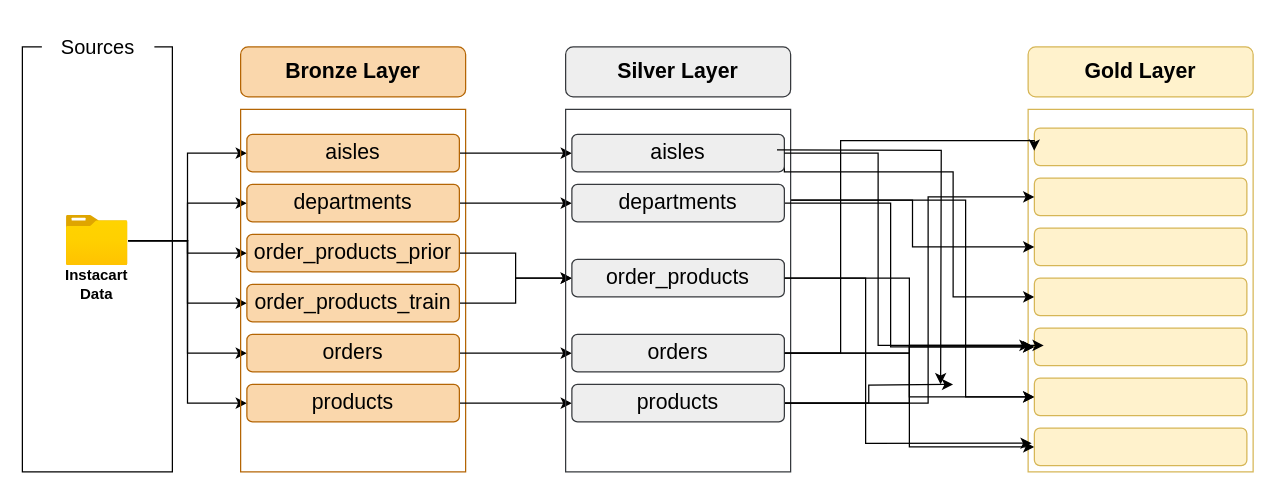
Image size: 1275x494. Some labels were removed from this diagram. Each missing label, with the centre of its shape:
dim_aisles: (x=1140, y=296)
dim_departments: (x=1140, y=246)
dim_products: (x=1140, y=196)
dim_users: (x=1140, y=146)
fact_orders_flat: (x=1140, y=346)
fact_product_sales: (x=1140, y=396)
fact_user_order_summary: (x=1140, y=446)
